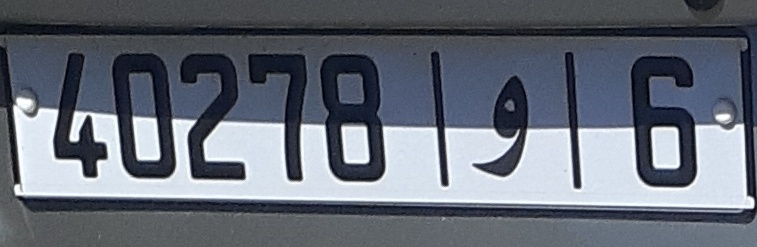0: (111, 44, 180, 189)
2: (175, 45, 240, 189)
4: (35, 47, 113, 188)
6: (622, 41, 706, 200)
7: (243, 40, 318, 185)
8: (313, 41, 387, 188)
waw: (471, 54, 534, 188)
